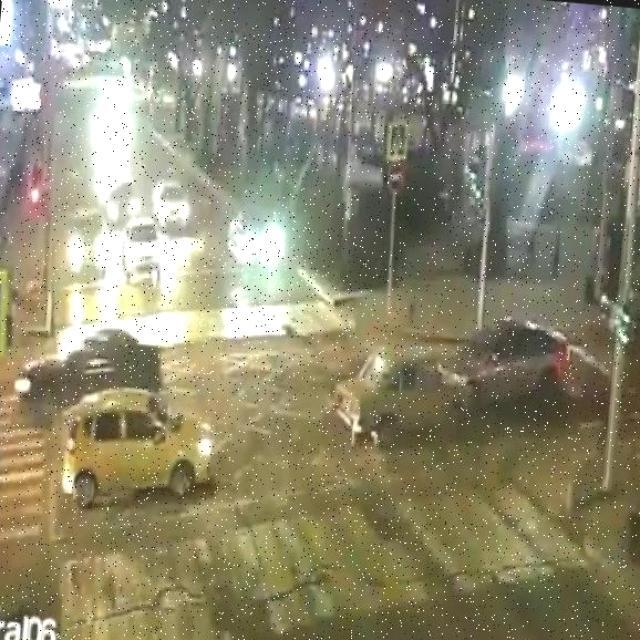accident: (329, 297, 584, 457)
